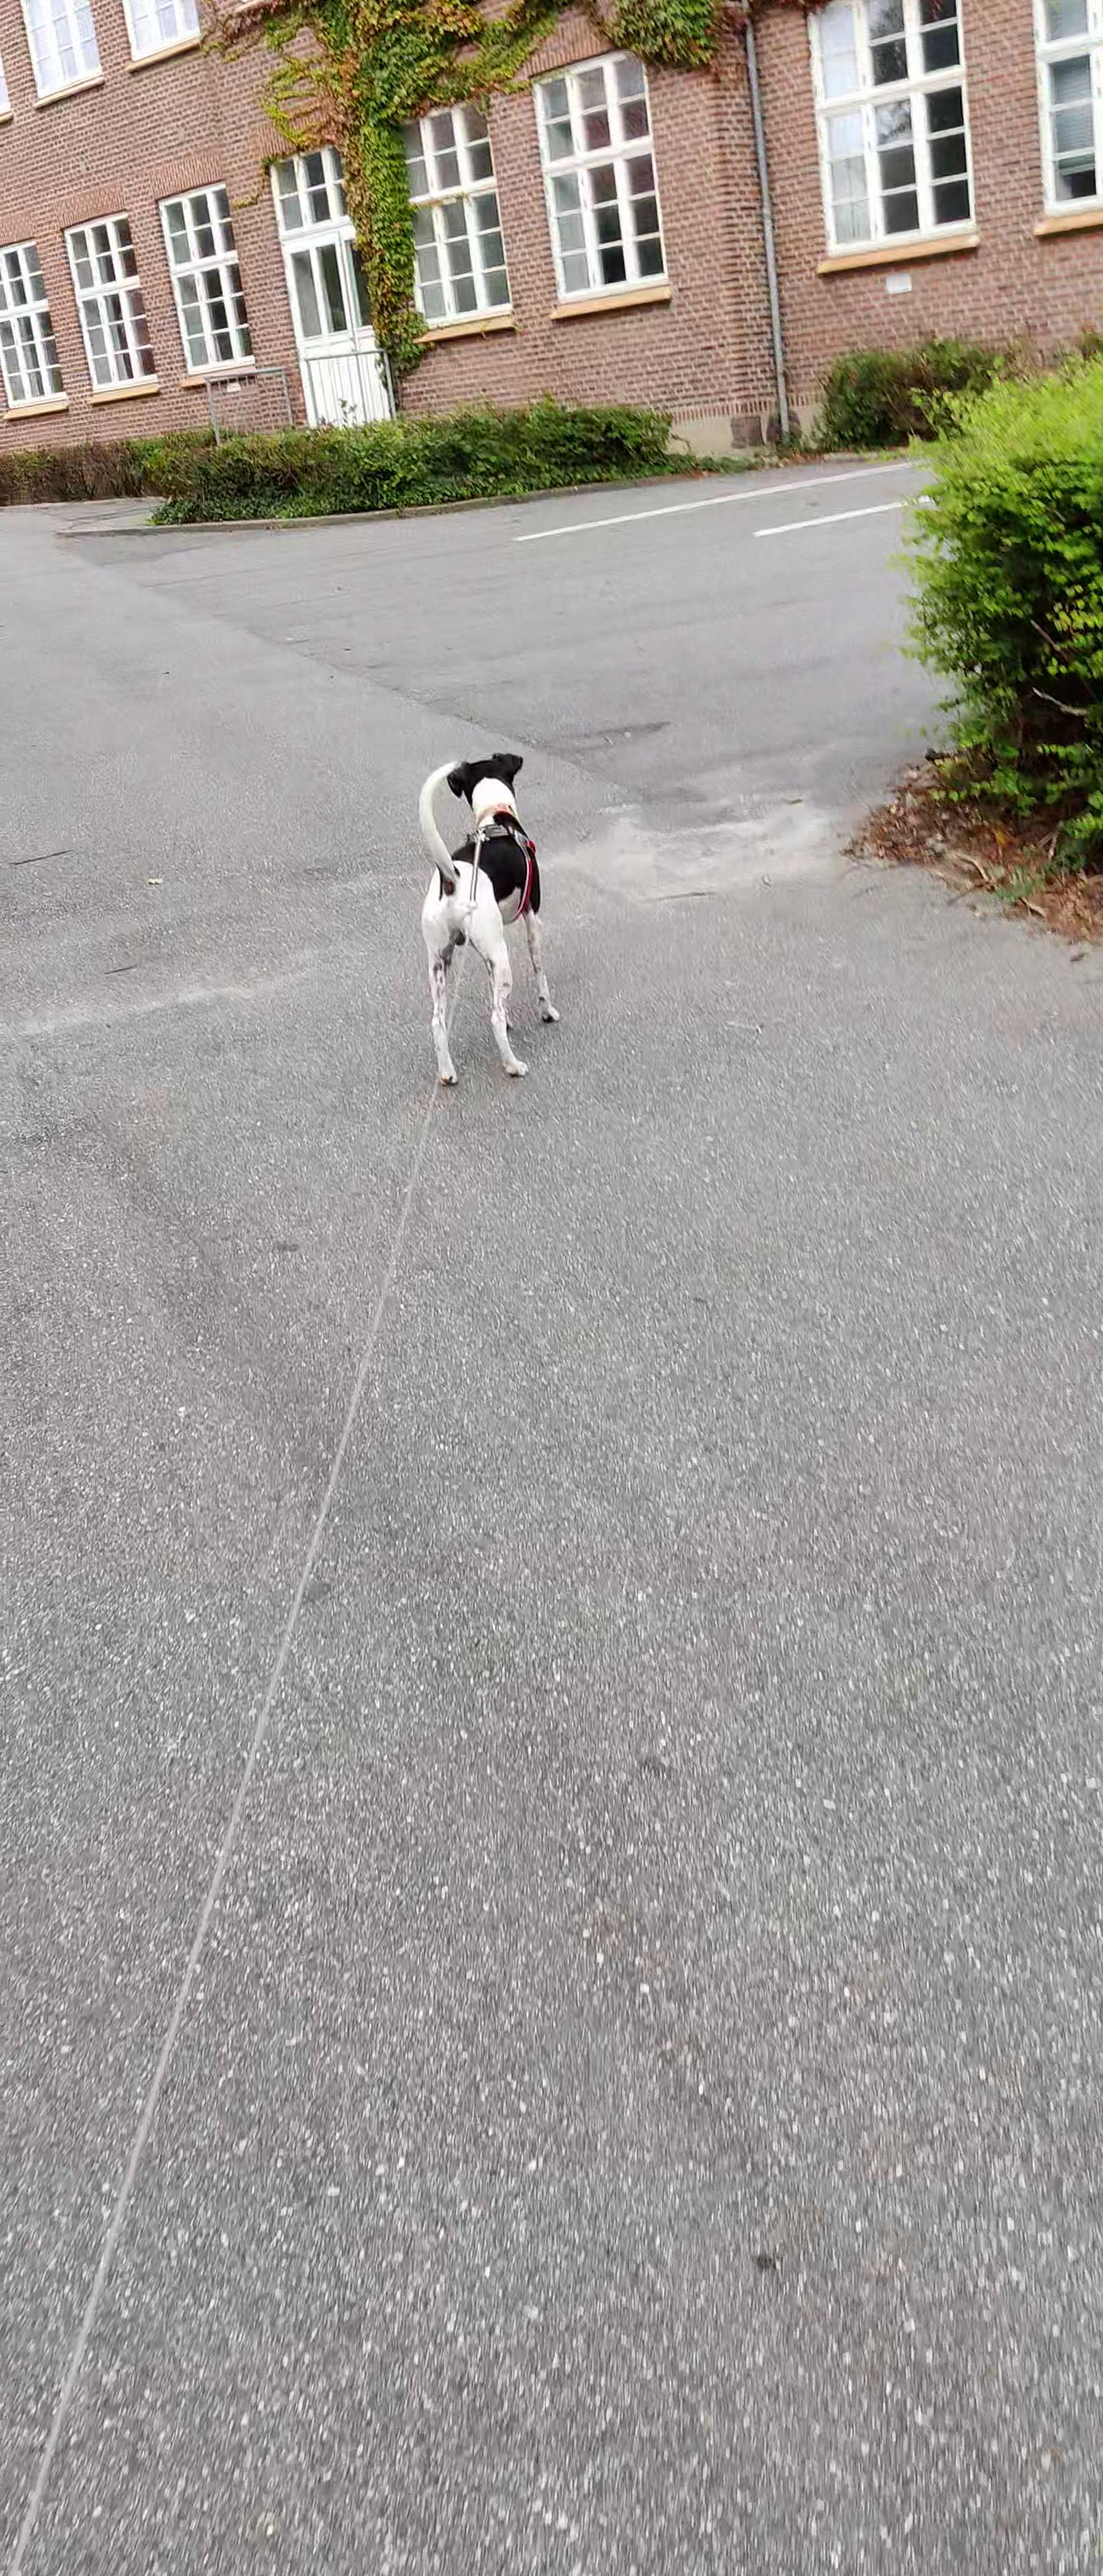Dog: (409, 747, 564, 1091)
